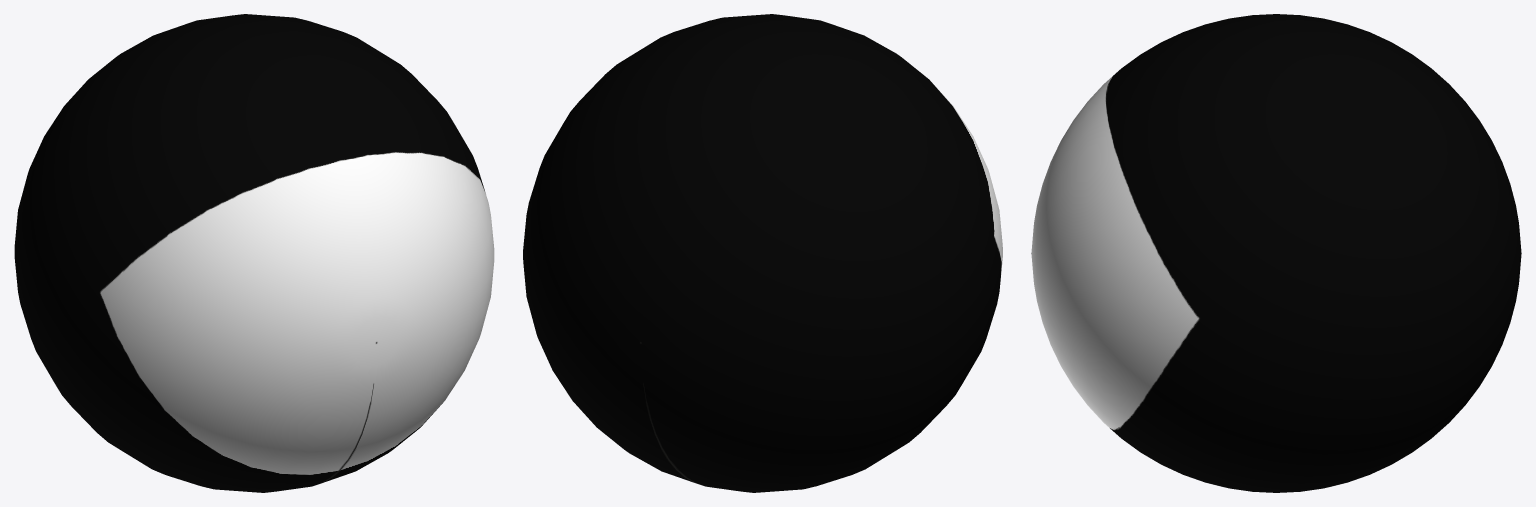
The model's file is Ojo_base.fbx.
3 renders of one model, left to right at view 1: azimuth 30°, elevation 25°; view 2: azimuth 150°, elevation 25°; view 3: azimuth 270°, elevation 25°, orthographic.
Visible parts, largest first — view 1: Ojo; view 2: Ojo; view 3: Ojo.
Boxes of the visible parts, box(x1,y1,x2,y2) form: Ojo: box(14, 14, 494, 492); Ojo: box(523, 14, 1002, 492); Ojo: box(1031, 14, 1521, 492).
Bounding box in the file's own units: 195 × 195 × 200.
